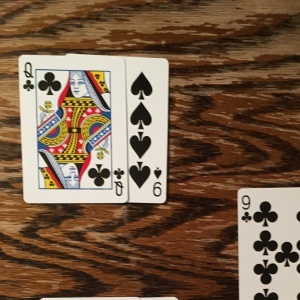card: (16, 53, 126, 205), (126, 55, 171, 205)
